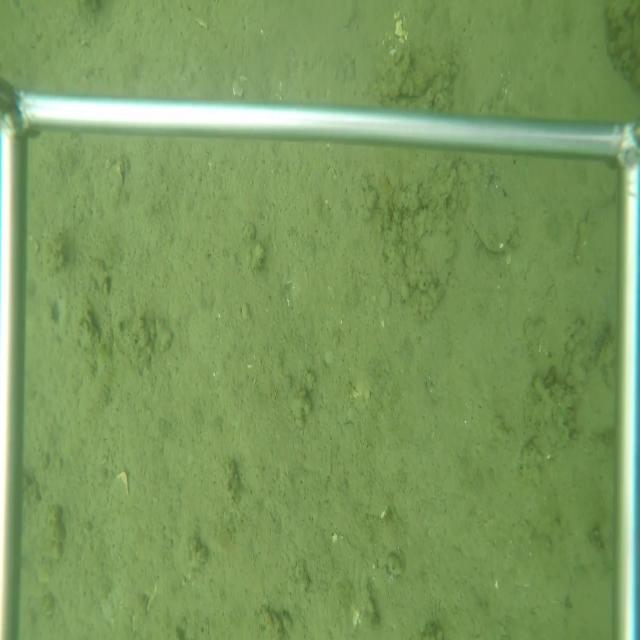Oyster-Indeterminate: (456, 158, 523, 259)
